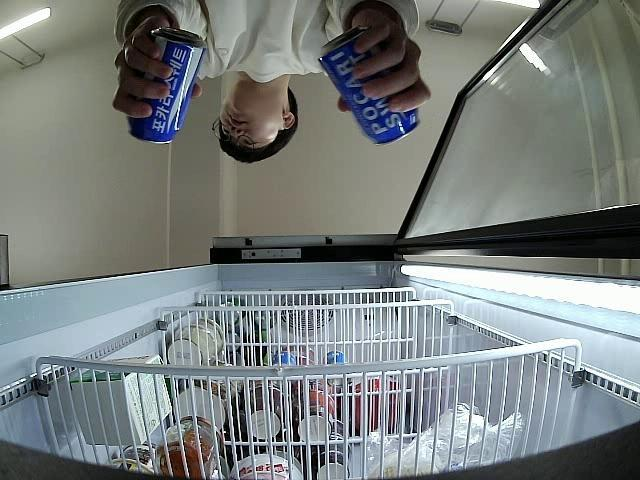13_pocariSweat: (318, 27, 422, 147), (128, 28, 208, 144)
